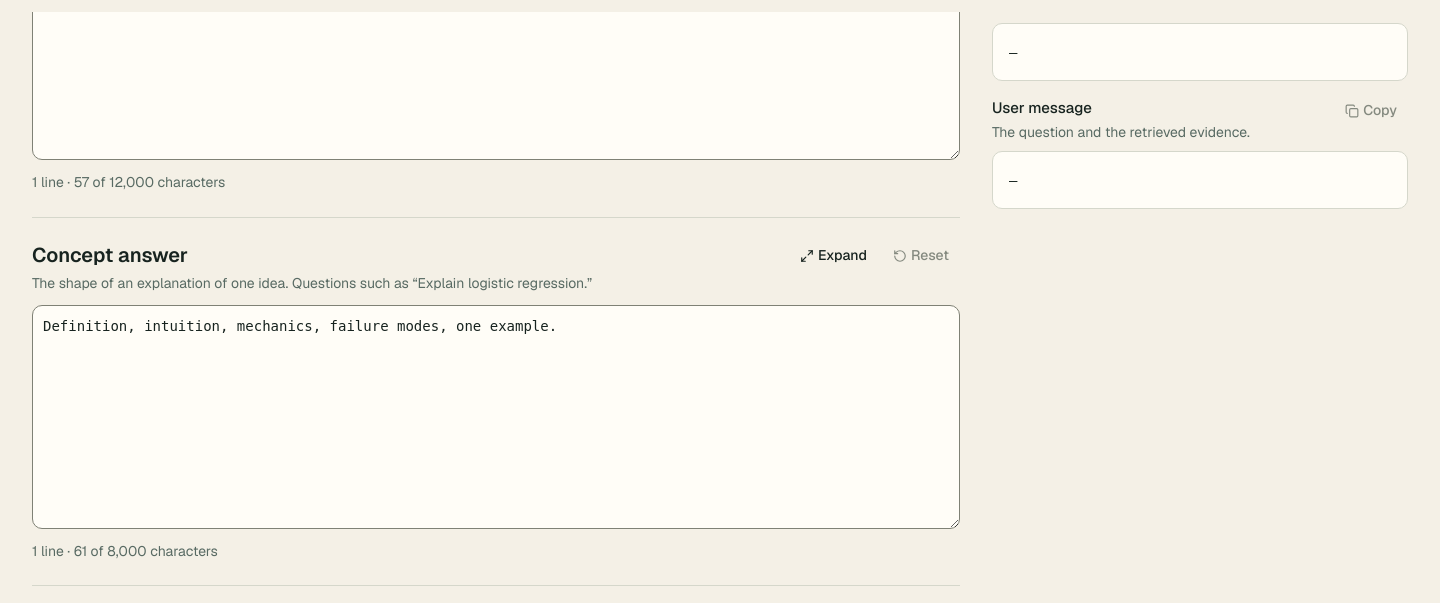
prompt studio › saves an edited profile as the account default
Type " Then a worked example." into the text box named "Concept answer" at point(496, 417), box [32,305,960,529]
(page scrolled)
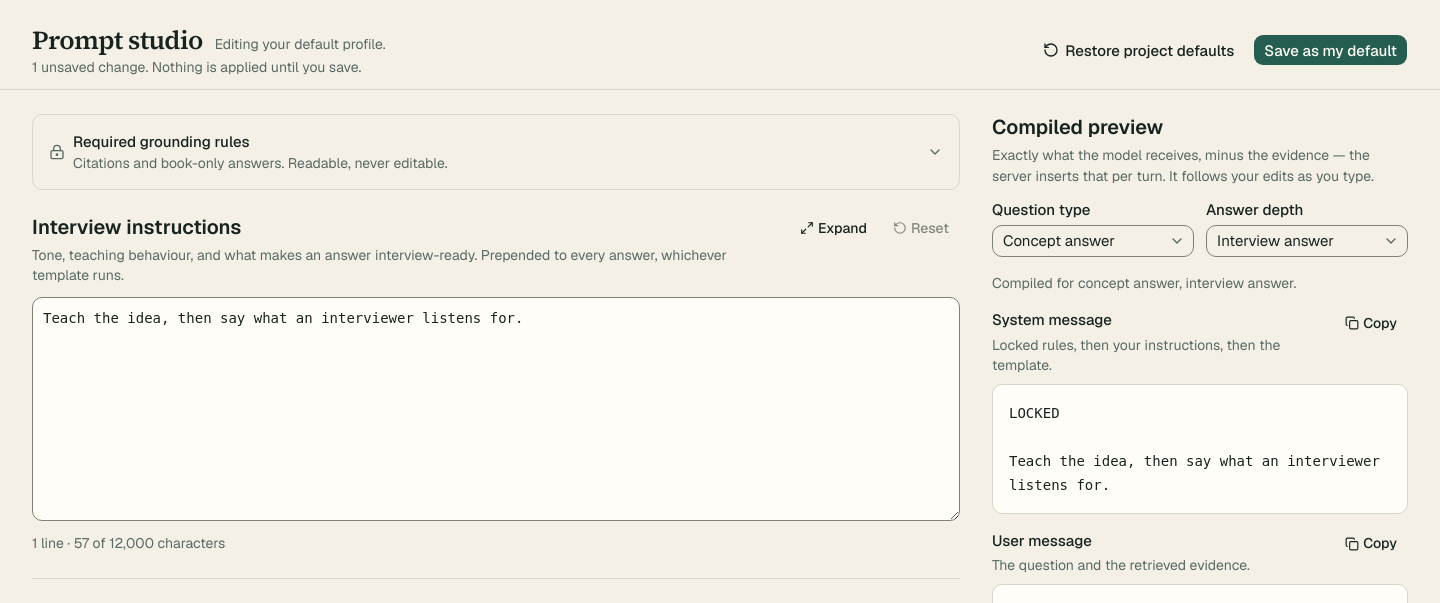
Result: the text "1 unsaved change. Nothing is applied until you save." is shown at [32,58,361,76]
Click the button "Save as my default" at point(1331, 50), box [1253,34,1408,66]
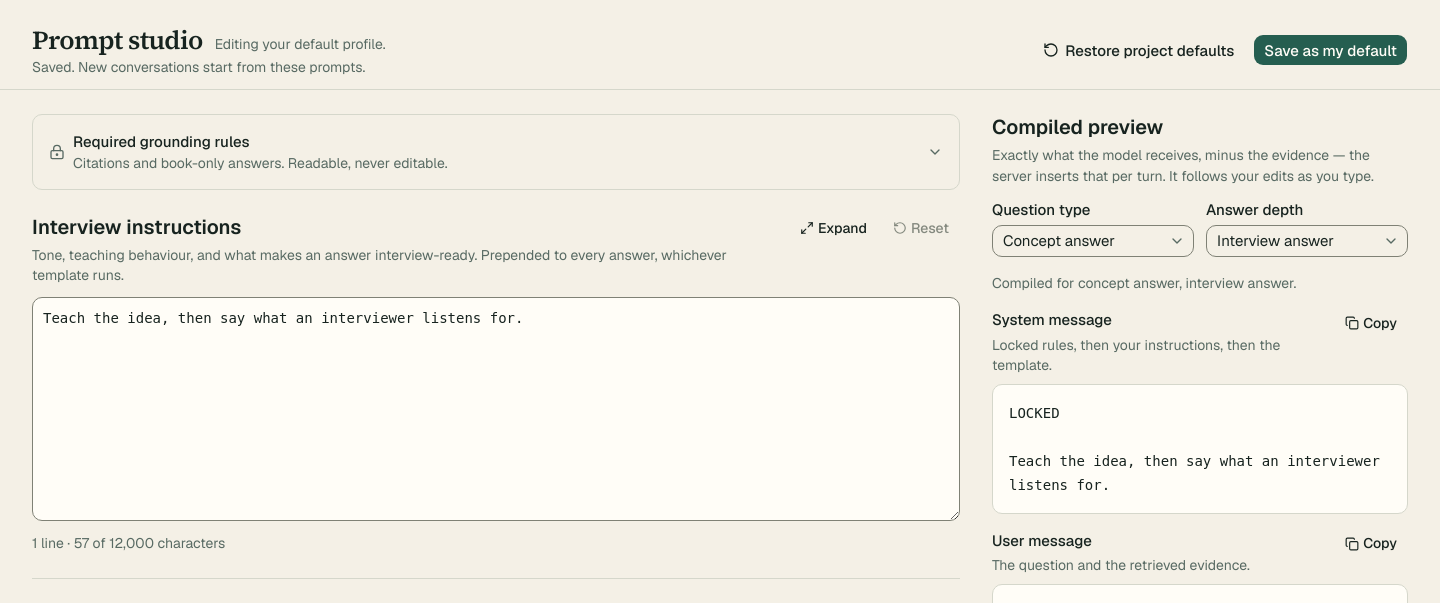
Result: the text "Saved. New conversations start from these prompts." is shown at [32,58,365,76]
